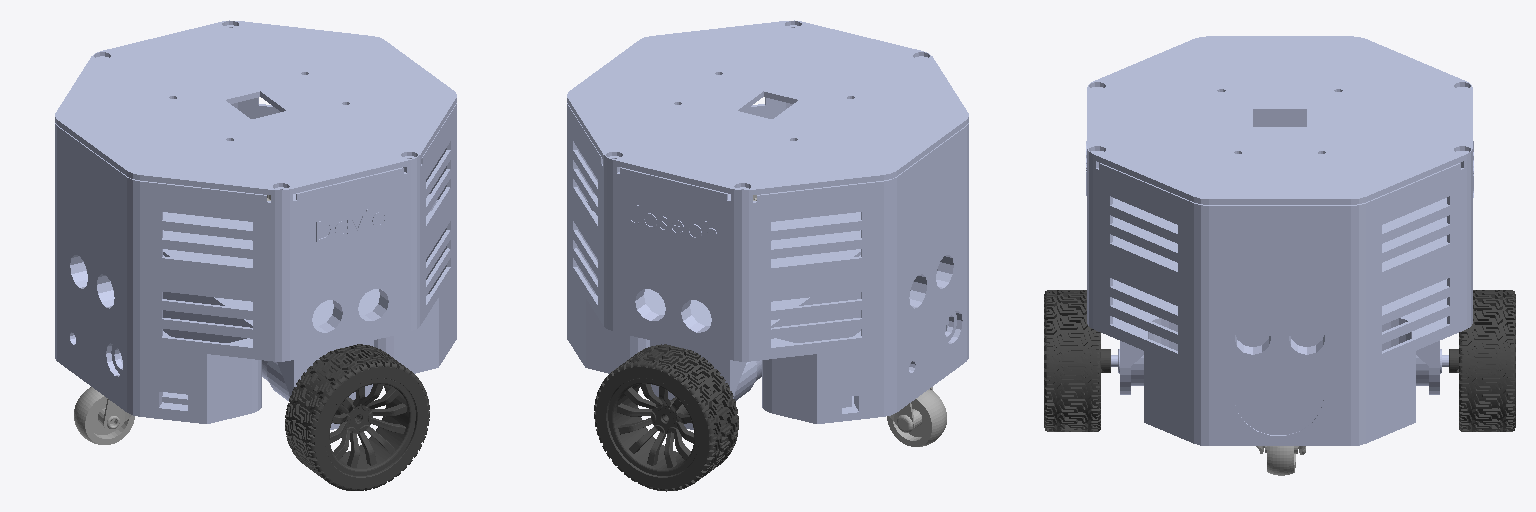
The robot description file, URDF, robot "Assem2":
<?xml version="1.0"?>
<robot
  name="Assem2">
  <link
    name="base_link">
    <inertial>
      <origin
        xyz="-0.0015287 -0.0001076 0.00024745"
        rpy="0 0 0" />
      <mass
        value="0.42363" />
      <inertia
        ixx="0.0011638"
        ixy="7.4381E-07"
        ixz="-2.7807E-06"
        iyy="0.001198"
        iyz="-1.3223E-07"
        izz="0.002121" />
    </inertial>
    <visual>
      <origin
        xyz="0 0 0"
        rpy="0 0 0" />
      <geometry>
        <mesh
          filename="package://Assem2/meshes/base_link.STL" />
      </geometry>
      <material
        name="">
        <color
          rgba="0.79216 0.81961 0.93333 1" />
      </material>
    </visual>
    <collision>
      <origin
        xyz="0 0 0"
        rpy="0 0 0" />
      <geometry>
        <mesh
          filename="package://Assem2/meshes/base_link.STL" />
      </geometry>
    </collision>
  </link>
  <link
    name="left_wheel">
    <inertial>
      <origin
        xyz="1.62522661995013E-10 -3.99080694271081E-05 8.68782490393016E-10"
        rpy="0 0 0" />
      <mass
        value="0.0351748247993373" />
      <inertia
        ixx="1.52372845986856E-05"
        ixy="1.25092023701013E-14"
        ixz="-4.72753666347404E-10"
        iyy="2.57858858489583E-05"
        iyz="8.04223696040072E-14"
        izz="1.52369776211146E-05" />
    </inertial>
    <visual>
      <origin
        xyz="0 0 0"
        rpy="0 0 0" />
      <geometry>
        <mesh
          filename="package://Assem2/meshes/left_wheel.STL" />
      </geometry>
      <material
        name="">
        <color
          rgba="0.333333333333333 0.333333333333333 0.333333333333333 1" />
      </material>
    </visual>
    <collision>
      <origin
        xyz="0 0 0"
        rpy="0 0 0" />
      <geometry>
        <mesh
          filename="package://Assem2/meshes/left_wheel.STL" />
      </geometry>
    </collision>
  </link>
  <joint
    name="left_wheel_joint"
    type="continuous">
    <origin
      xyz="-0.00110236671182662 0.09918052553471 -0.0602118007276669"
      rpy="0 0 0" />
    <parent
      link="base_link" />
    <child
      link="left_wheel" />
    <axis
      xyz="0 -1 0" />
    <limit
      lower="0"
      upper="0"
      effort="10"
      velocity="10" />
    <dynamics
      damping="0.1"
      friction="0.1" />
  </joint>
  <link
    name="right_wheel">
    <inertial>
      <origin
        xyz="-7.65266738866899E-10 -0.000210091929246703 -4.04959954458661E-10"
        rpy="0 0 0" />
      <mass
        value="0.0351748248061151" />
      <inertia
        ixx="1.52372891167623E-05"
        ixy="7.76145179179897E-14"
        ixz="-4.71269282107877E-10"
        iyy="2.57858858523892E-05"
        iyz="4.03100610731925E-14"
        izz="1.5236973107932E-05" />
    </inertial>
    <visual>
      <origin
        xyz="0 0 0"
        rpy="0 0 0" />
      <geometry>
        <mesh
          filename="package://Assem2/meshes/right_wheel.STL" />
      </geometry>
      <material
        name="">
        <color
          rgba="0.333333333333333 0.333333333333333 0.333333333333333 1" />
      </material>
    </visual>
    <collision>
      <origin
        xyz="0 0 0"
        rpy="0 0 0" />
      <geometry>
        <mesh
          filename="package://Assem2/meshes/right_wheel.STL" />
      </geometry>
    </collision>
  </link>
  <joint
    name="right_wheel_axis"
    type="continuous">
    <origin
      xyz="-0.00110236743602354 -0.0990963652347736 -0.0602118007276707"
      rpy="0 0 0" />
    <parent
      link="base_link" />
    <child
      link="right_wheel" />
    <axis
      xyz="0 1 0" />
    <limit
      lower="0"
      upper="0"
      effort="10"
      velocity="10" />
    <dynamics
      damping="0.1"
      friction="0.1" />
  </joint>
  <link
    name="front_castor_swivel">
    <inertial>
      <origin
        xyz="-0.00662747137712966 0.00082573191732882 -0.011755530269531"
        rpy="0 0 0" />
      <mass
        value="0.00225929587173408" />
      <inertia
        ixx="2.94235794193693E-07"
        ixy="9.72459226692024E-09"
        ixz="-9.13118605246731E-08"
        iyy="2.99032553651638E-07"
        iyz="1.71049060747718E-08"
        izz="3.24471502317489E-07" />
    </inertial>
    <visual>
      <origin
        xyz="0 0 0"
        rpy="0 0 0" />
      <geometry>
        <mesh
          filename="package://Assem2/meshes/front_castor_swivel.STL" />
      </geometry>
      <material
        name="">
        <color
          rgba="0.705882352941176 0.705882352941176 0.705882352941176 1" />
      </material>
    </visual>
    <collision>
      <origin
        xyz="0 0 0"
        rpy="0 0 0" />
      <geometry>
        <mesh
          filename="package://Assem2/meshes/front_castor_swivel.STL" />
      </geometry>
    </collision>
  </link>
  <joint
    name="front_castor_swivel_joint"
    type="continuous">
    <origin
      xyz="0.0682855861771881 -8.29198500289507E-05 -0.0559118007276681"
      rpy="0 0 0" />
    <parent
      link="base_link" />
    <child
      link="front_castor_swivel" />
    <axis
      xyz="0 0 1" />
    <limit
      lower="0"
      upper="0"
      effort="0"
      velocity="0" />
  </joint>
  <link
    name="front_castor_wheel">
    <inertial>
      <origin
        xyz="-4.17806118347963E-05 0.00223643989380329 -3.33066907387547E-16"
        rpy="0 0 0" />
      <mass
        value="0.00578153317426048" />
      <inertia
        ixx="4.38135168803409E-07"
        ixy="1.60705884622464E-08"
        ixz="2.9702993554684E-24"
        iyy="7.37153144661598E-07"
        iyz="-1.38374641237601E-23"
        izz="4.37273942643726E-07" />
    </inertial>
    <visual>
      <origin
        xyz="0 0 0"
        rpy="0 0 0" />
      <geometry>
        <mesh
          filename="package://Assem2/meshes/front_castor_wheel.STL" />
      </geometry>
      <material
        name="">
        <color
          rgba="0.705882352941176 0.705882352941176 0.705882352941176 1" />
      </material>
    </visual>
    <collision>
      <origin
        xyz="0 0 0"
        rpy="0 0 0" />
      <geometry>
        <mesh
          filename="package://Assem2/meshes/front_castor_wheel.STL" />
      </geometry>
    </collision>
  </link>
  <joint
    name="front_castor_wheel_joint"
    type="continuous">
    <origin
      xyz="-0.0154360099098718 -0.00140698189836441 -0.02325"
      rpy="0 0 0" />
    <parent
      link="front_castor_swivel" />
    <child
      link="front_castor_wheel" />
    <axis
      xyz="0.0535134190604983 0.998567130432629 0" />
    <limit
      effort="10"
      velocity="10" />
    <dynamics
      damping="0.1"
      friction="0.1" />
  </joint>
  <link
    name="rear_castor_swivel">
    <inertial>
      <origin
        xyz="-0.00660181780592639 0.00101053944417551 -0.0117555297613057"
        rpy="0 0 0" />
      <mass
        value="0.00225929598350003" />
      <inertia
        ixx="2.94782544285668E-07"
        ixy="9.84337703679697E-09"
        ixz="-9.07984276209338E-08"
        iyy="2.98485876702089E-07"
        iyz="1.96489684534266E-08"
        izz="3.24471566266054E-07" />
    </inertial>
    <visual>
      <origin
        xyz="0 0 0"
        rpy="0 0 0" />
      <geometry>
        <mesh
          filename="package://Assem2/meshes/rear_castor_swivel.STL" />
      </geometry>
      <material
        name="">
        <color
          rgba="0.705882352941176 0.705882352941176 0.705882352941176 1" />
      </material>
    </visual>
    <collision>
      <origin
        xyz="0 0 0"
        rpy="0 0 0" />
      <geometry>
        <mesh
          filename="package://Assem2/meshes/rear_castor_swivel.STL" />
      </geometry>
    </collision>
  </link>
  <joint
    name="rear_castor_swivel_joint"
    type="continuous">
    <origin
      xyz="-0.0704903203250691 -8.29198500289507E-05 -0.0560118007276681"
      rpy="0 0 0" />
    <parent
      link="base_link" />
    <child
      link="rear_castor_swivel" />
    <axis
      xyz="0 0 1" />
    <limit
      lower="0"
      upper="0"
      effort="0"
      velocity="0" />
  </joint>
  <link
    name="rear_castor_wheel">
    <inertial>
      <origin
        xyz="-3.33066907387547E-16 4.44089209850063E-16 2.22044604925031E-16"
        rpy="0 0 0" />
      <mass
        value="0.00578153317426054" />
      <inertia
        ixx="4.39265975263013E-07"
        ixy="2.43950107380631E-08"
        ixz="-5.75352425609861E-23"
        iyy="7.36022338202006E-07"
        iyz="-3.12946531167788E-22"
        izz="4.37273942643731E-07" />
    </inertial>
    <visual>
      <origin
        xyz="0 0 0"
        rpy="0 0 0" />
      <geometry>
        <mesh
          filename="package://Assem2/meshes/rear_castor_wheel.STL" />
      </geometry>
      <material
        name="">
        <color
          rgba="0.705882352941176 0.705882352941176 0.705882352941176 1" />
      </material>
    </visual>
    <collision>
      <origin
        xyz="0 0 0"
        rpy="0 0 0" />
      <geometry>
        <mesh
          filename="package://Assem2/meshes/rear_castor_wheel.STL" />
      </geometry>
    </collision>
  </link>
  <joint
    name="rear_castor_wheel_joint"
    type="continuous">
    <origin
      xyz="-0.0154485805658529 0.00126149058671188 -0.0232500000000001"
      rpy="0 0 0" />
    <parent
      link="rear_castor_swivel" />
    <child
      link="rear_castor_wheel" />
    <axis
      xyz="0.0813864894652268 0.996682617151782 0" />
    <limit
      effort="10"
      velocity="10" />
    <dynamics
      damping="0.1"
      friction="0.1" />
  </joint>
  <link
    name="front_ultrasonic">
    <inertial>
      <origin
        xyz="0.00366778084488301 -1.59732521927136E-05 -7.49171350463707E-05"
        rpy="0 0 0" />
      <mass
        value="0.00401081291720019" />
      <inertia
        ixx="3.75731975535782E-07"
        ixy="-3.25714288876319E-14"
        ixz="9.4369894445709E-15"
        iyy="1.13242599866062E-07"
        iyz="3.5417064497483E-14"
        izz="3.11874315212592E-07" />
    </inertial>
    <visual>
      <origin
        xyz="0 0 0"
        rpy="0 0 0" />
      <geometry>
        <mesh
          filename="package://Assem2/meshes/front_ultrasonic.STL" />
      </geometry>
      <material
        name="">
        <color
          rgba="0.752941176470588 0.752941176470588 0.752941176470588 1" />
      </material>
    </visual>
    <collision>
      <origin
        xyz="0 0 0"
        rpy="0 0 0" />
      <geometry>
        <mesh
          filename="package://Assem2/meshes/front_ultrasonic.STL" />
      </geometry>
    </collision>
  </link>
  <joint
    name="front_ultrasonic"
    type="fixed">
    <origin
      xyz="0.0811855861771879 -0.000332919850029034 -0.00521180072766803"
      rpy="0 0 0" />
    <parent
      link="base_link" />
    <child
      link="front_ultrasonic" />
    <axis
      xyz="0 0 0" />
  </joint>
  <link
    name="right_ultrasonic">
    <inertial>
      <origin
        xyz="-1.59732516995525E-05 -0.00366778084471608 -7.49171356525524E-05"
        rpy="0 0 0" />
      <mass
        value="0.00401081291754531" />
      <inertia
        ixx="1.13242599866133E-07"
        ixy="3.25714076456338E-14"
        ixz="3.54171113882567E-14"
        iyy="3.75731975535875E-07"
        iyz="-9.43695793964043E-15"
        izz="3.11874315212634E-07" />
    </inertial>
    <visual>
      <origin
        xyz="0 0 0"
        rpy="0 0 0" />
      <geometry>
        <mesh
          filename="package://Assem2/meshes/right_ultrasonic.STL" />
      </geometry>
      <material
        name="">
        <color
          rgba="0.752941176470588 0.752941176470588 0.752941176470588 1" />
      </material>
    </visual>
    <collision>
      <origin
        xyz="0 0 0"
        rpy="0 0 0" />
      <geometry>
        <mesh
          filename="package://Assem2/meshes/right_ultrasonic.STL" />
      </geometry>
    </collision>
  </link>
  <joint
    name="right_ultrasonic_joint"
    type="fixed">
    <origin
      xyz="-0.0013523670739406 -0.0823708731011579 -0.00521180072766803"
      rpy="0 0 0" />
    <parent
      link="base_link" />
    <child
      link="right_ultrasonic" />
    <axis
      xyz="0 0 0" />
  </joint>
  <link
    name="left_ultrasonic">
    <inertial>
      <origin
        xyz="0.000265972889588628 -0.0133077112888942 0.0549250828643494"
        rpy="0 0 0" />
      <mass
        value="0.00401081291754678" />
      <inertia
        ixx="1.13242599866157E-07"
        ixy="3.25714079434188E-14"
        ixz="-3.5417108211821E-14"
        iyy="3.75731975535903E-07"
        iyz="9.43695719502015E-15"
        izz="3.11874315212639E-07" />
    </inertial>
    <visual>
      <origin
        xyz="0 0 0"
        rpy="0 0 0" />
      <geometry>
        <mesh
          filename="package://Assem2/meshes/left_ultrasonic.STL" />
      </geometry>
      <material
        name="">
        <color
          rgba="0.752941176470588 0.752941176470588 0.752941176470588 1" />
      </material>
    </visual>
    <collision>
      <origin
        xyz="0 0 0"
        rpy="0 0 0" />
      <geometry>
        <mesh
          filename="package://Assem2/meshes/left_ultrasonic.STL" />
      </geometry>
    </collision>
  </link>
  <joint
    name="left_ultrasonic_joint"
    type="fixed">
    <origin
      xyz="-0.00110236671182662 0.09918052553471 -0.0602118007276669"
      rpy="0 0 0" />
    <parent
      link="base_link" />
    <child
      link="left_ultrasonic" />
    <axis
      xyz="0 0 0" />
  </joint>
  <link
    name="rear_ultrasonic">
    <inertial>
      <origin
        xyz="-0.00366778084472019 1.59732516984423E-05 -7.49171356508871E-05"
        rpy="0 0 0" />
      <mass
        value="0.0040108129175459" />
      <inertia
        ixx="3.75731975535883E-07"
        ixy="-3.25714070401376E-14"
        ixz="-9.43696052550341E-15"
        iyy="1.13242599866138E-07"
        iyz="-3.54171050334327E-14"
        izz="3.11874315212637E-07" />
    </inertial>
    <visual>
      <origin
        xyz="0 0 0"
        rpy="0 0 0" />
      <geometry>
        <mesh
          filename="package://Assem2/meshes/rear_ultrasonic.STL" />
      </geometry>
      <material
        name="">
        <color
          rgba="0.752941176470588 0.752941176470588 0.752941176470588 1" />
      </material>
    </visual>
    <collision>
      <origin
        xyz="0 0 0"
        rpy="0 0 0" />
      <geometry>
        <mesh
          filename="package://Assem2/meshes/rear_ultrasonic.STL" />
      </geometry>
    </collision>
  </link>
  <joint
    name="rear_ultrasonic_wheel"
    type="fixed">
    <origin
      xyz="-0.083390320325069 0.000167080149971133 -0.00521180072766803"
      rpy="0 0 0" />
    <parent
      link="base_link" />
    <child
      link="rear_ultrasonic" />
    <axis
      xyz="0 0 0" />
  </joint>
  <link
    name="tof">
    <inertial>
      <origin
        xyz="1.11022302462516E-16 2.22044604925031E-16 0.001"
        rpy="0 0 0" />
      <mass
        value="0.000200000000000002" />
      <inertia
        ixx="1.73333333333336E-09"
        ixy="0"
        ixz="-1.21855212583811E-26"
        iyy="1.73333333333336E-09"
        iyz="4.51750905202311E-27"
        izz="3.33333333333339E-09" />
    </inertial>
    <visual>
      <origin
        xyz="0 0 0"
        rpy="0 0 0" />
      <geometry>
        <mesh
          filename="package://Assem2/meshes/tof.STL" />
      </geometry>
      <material
        name="">
        <color
          rgba="0.792156862745098 0.819607843137255 0.933333333333333 1" />
      </material>
    </visual>
    <collision>
      <origin
        xyz="0 0 0"
        rpy="0 0 0" />
      <geometry>
        <mesh
          filename="package://Assem2/meshes/tof.STL" />
      </geometry>
    </collision>
  </link>
  <joint
    name="tof_joint"
    type="fixed">
    <origin
      xyz="0.0756469345109923 -0.0332652787387306 -0.0583716314794056"
      rpy="0 0 0" />
    <parent
      link="base_link" />
    <child
      link="tof" />
    <axis
      xyz="0 0 0" />
  </joint>
  <link
    name="imu">
    <inertial>
      <origin
        xyz="-6.31876500063466E-05 -2.71495890153961E-05 -0.000556756215958853"
        rpy="0 0 0" />
      <mass
        value="0.0010750261209997" />
      <inertia
        ixx="3.73533571996134E-08"
        ixy="2.60381396082965E-12"
        ixz="-1.77225553477284E-14"
        iyy="4.6626767351652E-08"
        iyz="1.70011868520784E-14"
        izz="8.34197004616879E-08" />
    </inertial>
    <visual>
      <origin
        xyz="0 0 0"
        rpy="0 0 0" />
      <geometry>
        <mesh
          filename="package://Assem2/meshes/imu.STL" />
      </geometry>
      <material
        name="">
        <color
          rgba="0.752941176470588 0.752941176470588 0.752941176470588 1" />
      </material>
    </visual>
    <collision>
      <origin
        xyz="0 0 0"
        rpy="0 0 0" />
      <geometry>
        <mesh
          filename="package://Assem2/meshes/imu.STL" />
      </geometry>
    </collision>
  </link>
  <joint
    name="imu_joint"
    type="fixed">
    <origin
      xyz="-0.00110492627089243 -7.89021335523277E-05 0.0154381992723319"
      rpy="0 0 0" />
    <parent
      link="base_link" />
    <child
      link="imu" />
    <axis
      xyz="0 0 0" />
  </joint>
  <link
    name="lidar">
    <inertial>
      <origin
        xyz="0.0123514282574037 0.0221366030214345 -0.0183711525526122"
        rpy="0 0 0" />
      <mass
        value="0.0730846039145514" />
      <inertia
        ixx="1.96218124920878E-05"
        ixy="-4.47299025205779E-07"
        ixz="-4.27751291862599E-07"
        iyy="2.40827011791942E-05"
        iyz="-2.32325285073347E-08"
        izz="4.14169819389697E-05" />
    </inertial>
    <visual>
      <origin
        xyz="0 0 0"
        rpy="0 0 0" />
      <geometry>
        <mesh
          filename="package://Assem2/meshes/lidar.STL" />
      </geometry>
      <material
        name="">
        <color
          rgba="0.752941176470588 0.752941176470588 0.752941176470588 1" />
      </material>
    </visual>
    <collision>
      <origin
        xyz="0 0 0"
        rpy="0 0 0" />
      <geometry>
        <mesh
          filename="package://Assem2/meshes/lidar.STL" />
      </geometry>
    </collision>
  </link>
  <joint
    name="lidar"
    type="fixed">
    <origin
      xyz="-0.00629276345390073 -0.0180413804374981 0.111394646787499"
      rpy="0 0 0" />
    <parent
      link="base_link" />
    <child
      link="lidar" />
    <axis
      xyz="0 0 0" />
  </joint>
</robot>

--- What the picture shows (computed from the rendered views, not written in the file) ---
The picture shows the robot from 3 angles, left to right: view 1: azimuth 30°, elevation 25°; view 2: azimuth 150°, elevation 25°; view 3: azimuth 270°, elevation 25°; orthographic projection.
Model Assem2 with 14 links and 13 joints (6 continuous, 7 fixed), rooted at base_link, posed every joint at zero.
Visible links, largest first — view 1: base_link, right_wheel, rear_castor_wheel, rear_castor_swivel; view 2: base_link, left_wheel, rear_castor_wheel; view 3: base_link, left_wheel, right_wheel, front_castor_wheel.
Link boxes in pixels (<box>): base_link: <box>55,20,456,429</box>; right_wheel: <box>285,344,429,490</box>; rear_castor_wheel: <box>74,387,134,444</box>; rear_castor_swivel: <box>90,387,131,431</box>; base_link: <box>567,20,968,429</box>; left_wheel: <box>594,344,738,491</box>; rear_castor_wheel: <box>887,389,946,446</box>; base_link: <box>1086,36,1473,445</box>; left_wheel: <box>1449,290,1515,431</box>; right_wheel: <box>1044,290,1110,431</box>; front_castor_wheel: <box>1265,446,1297,475</box>.
Bounding box of the posed robot: 0.1922 × 0.2255 × 0.1625 m (x, y, z).
Meshes: 14 distinct files referenced, 9 mesh visuals loaded (9 binary STL); not drawn: 5 (reference not matched to a file when rendering).
